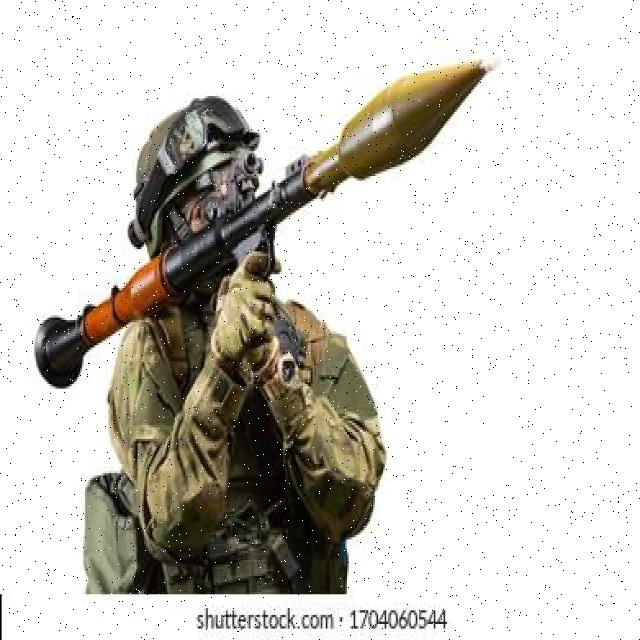bazooka: (39, 48, 506, 402)
